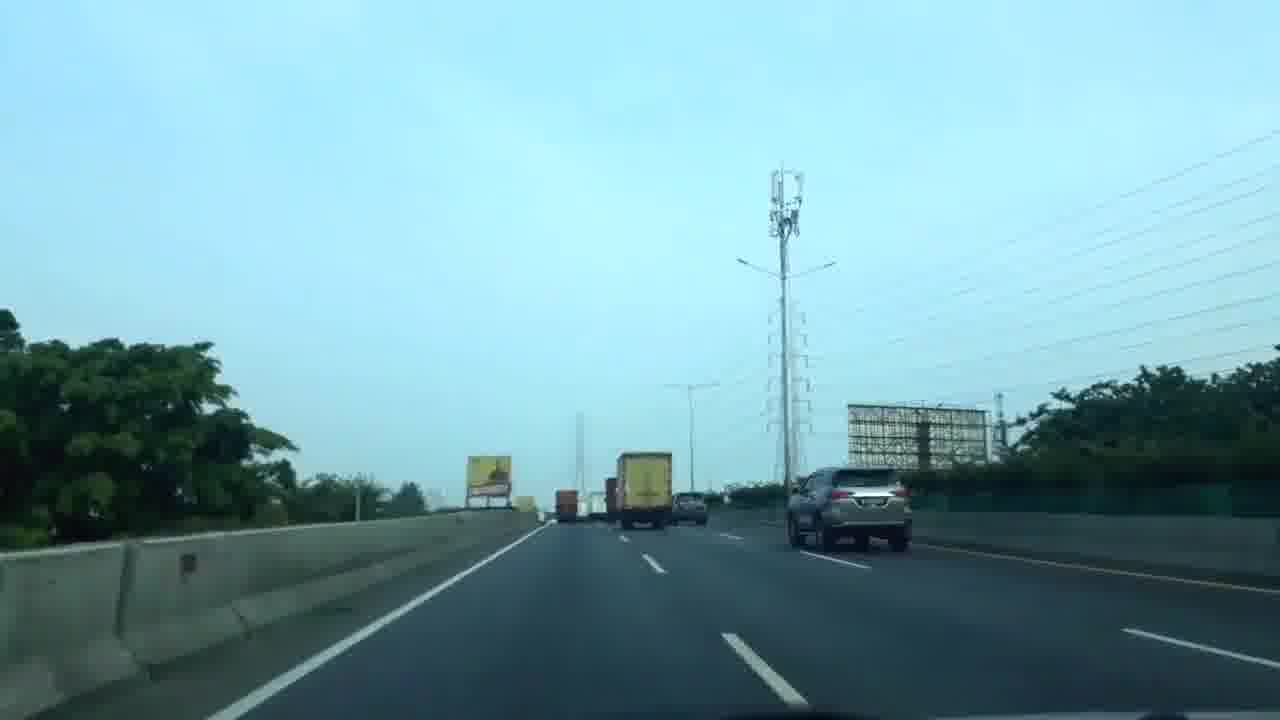plate_positive: (861, 498, 885, 506)
